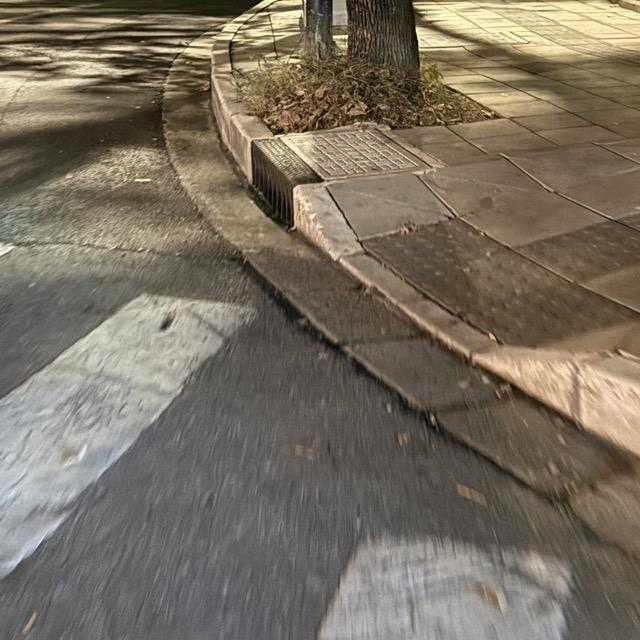curb: (211, 0, 639, 457)
